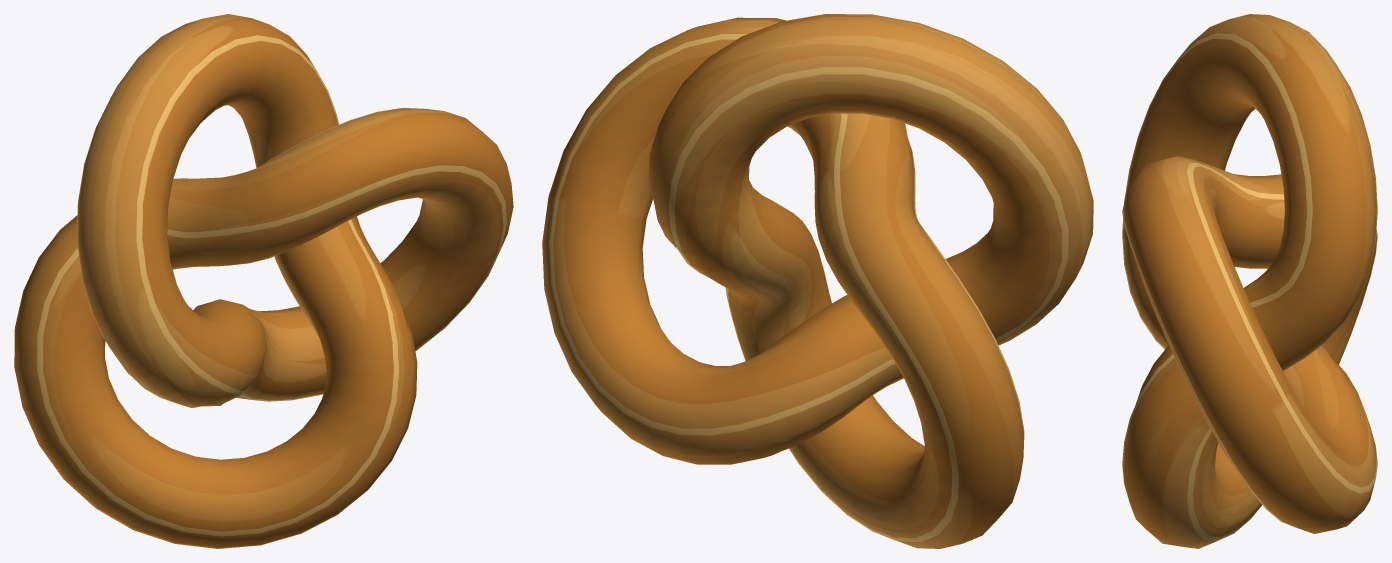
The model's file is ember_sigil.glb.
The picture shows the model from 3 angles, left to right: view 1: azimuth 30°, elevation 25°; view 2: azimuth 150°, elevation 25°; view 3: azimuth 270°, elevation 25°; orthographic projection. The views are drawn at different scales.
Parts seen in each view (by area): view 1: standin; view 2: standin; view 3: standin.
Boxes of the visible parts, x1,y1,x2,y2 form: standin: (14, 14, 513, 548); standin: (542, 14, 1093, 548); standin: (1122, 14, 1377, 548).
Bounding box in the file's own units: 0.4551 × 0.4731 × 0.22.
1 material, 1 textured.
